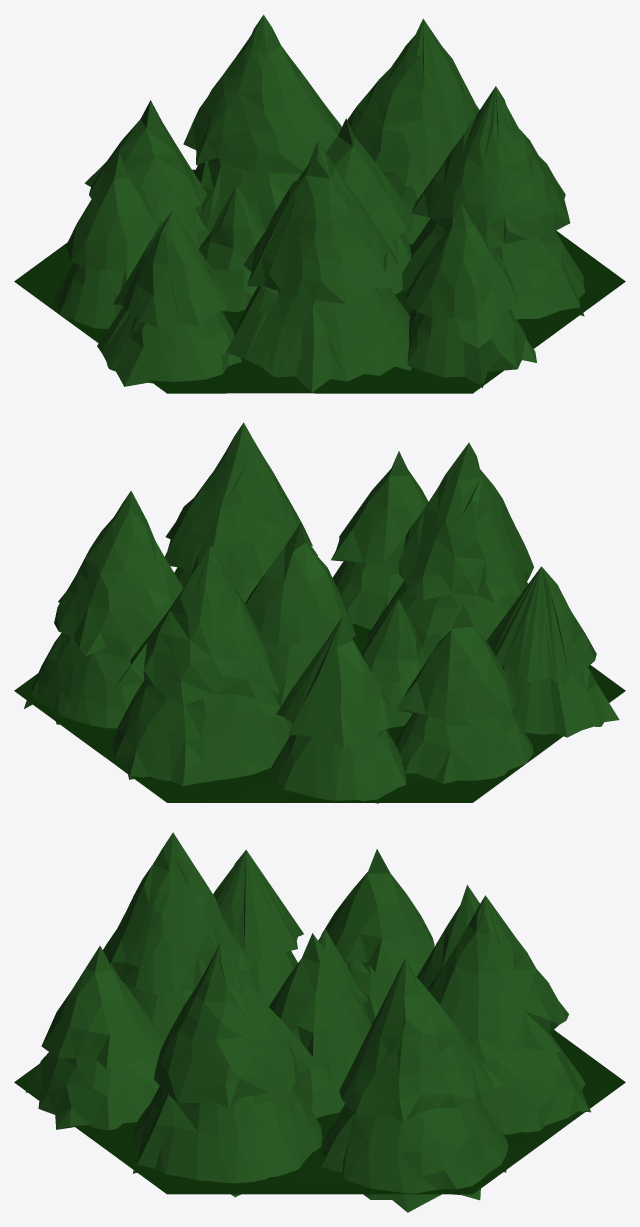
File: forest.gltf
The picture shows the model from 3 angles, top to bottom: view 1: azimuth 30°, elevation 25°; view 2: azimuth 150°, elevation 25°; view 3: azimuth 270°, elevation 25°; orthographic projection.
Visible parts, largest first — view 1: iglak.133, iglak.141, iglak.144, iglak.135, iglak.137, iglak.145, Circle, iglak.146, iglak.138, iglak.142, iglak.139; view 2: iglak.144, iglak.145, iglak.133, iglak.138, iglak.146, iglak.135, iglak.141, Circle, iglak.142, iglak.137, iglak.139; view 3: iglak.141, iglak.145, iglak.144, iglak.137, iglak.133, Circle, iglak.142, iglak.146, iglak.135, iglak.138, iglak.139.
Part boxes in pixels (x1,y1,x2,y2): iglak.133: [225, 141, 411, 392]; iglak.141: [402, 86, 585, 319]; iglak.144: [183, 14, 341, 233]; iglak.135: [97, 211, 241, 386]; iglak.137: [405, 202, 536, 387]; iglak.145: [347, 18, 479, 244]; Circle: [14, 169, 625, 393]; iglak.146: [53, 153, 162, 329]; iglak.138: [84, 100, 209, 248]; iglak.142: [326, 118, 411, 294]; iglak.139: [199, 185, 265, 311]; iglak.144: [108, 545, 292, 785]; iglak.145: [24, 490, 183, 728]; iglak.133: [366, 442, 533, 658]; iglak.138: [271, 617, 406, 803]; iglak.146: [394, 604, 533, 783]; iglak.135: [486, 566, 619, 737]; iglak.141: [165, 422, 317, 602]; Circle: [14, 624, 625, 802]; iglak.142: [245, 522, 355, 705]; iglak.137: [331, 451, 428, 629]; iglak.139: [361, 599, 427, 728]; iglak.141: [131, 943, 322, 1197]; iglak.145: [321, 958, 508, 1212]; iglak.144: [428, 895, 590, 1134]; iglak.137: [25, 945, 161, 1130]; iglak.133: [103, 832, 255, 1046]; Circle: [14, 1021, 625, 1194]; iglak.142: [269, 933, 371, 1118]; iglak.146: [321, 849, 434, 1021]; iglak.135: [213, 850, 303, 1006]; iglak.138: [417, 885, 479, 989]; iglak.139: [318, 929, 367, 1003].
Bounding box in the file's own units: 1.82 × 0.8253 × 2.
